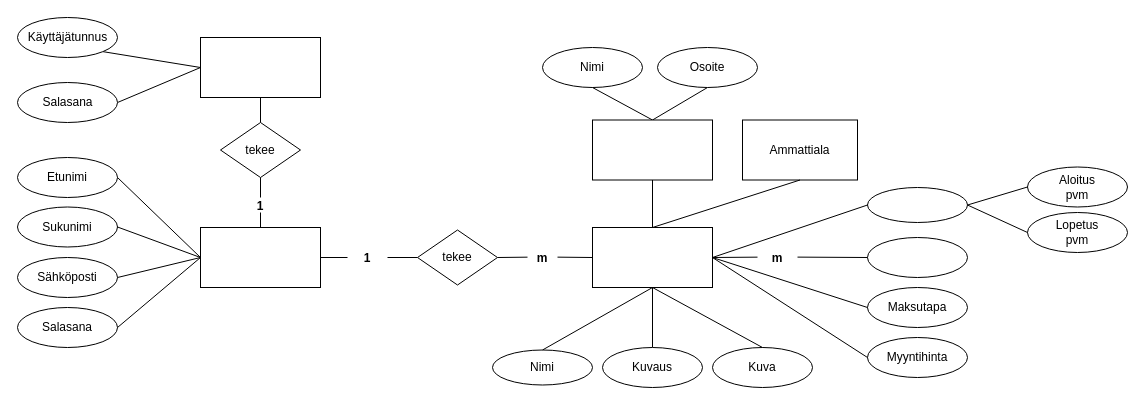
The diagram is 1145 pixels wide and 413 high, and some of its shapes have lost their labels. Each missing label, with the centre of its shape:
Kirjailmoitus: point (652, 257)
Käyttäjät: point (260, 67)
Myynti aika: point (917, 204)
Rekisteröityminen: point (260, 257)
Toimipiste: point (652, 149)
Viesti: point (917, 257)
